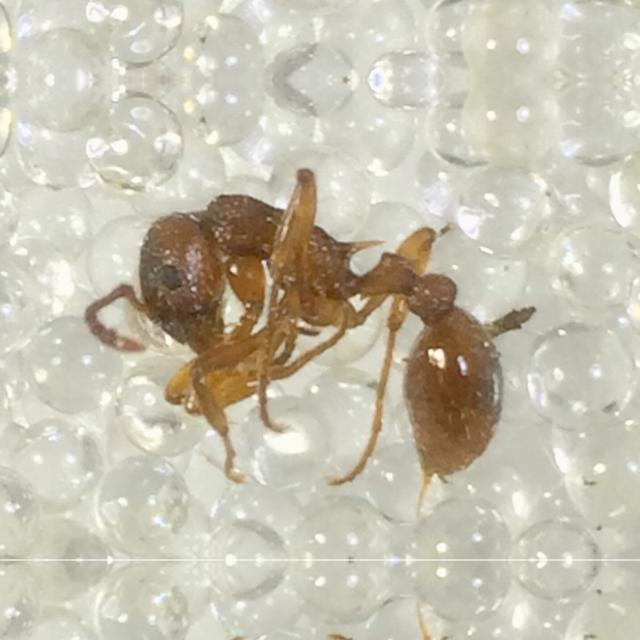Myrmica: (101, 148, 541, 478)
